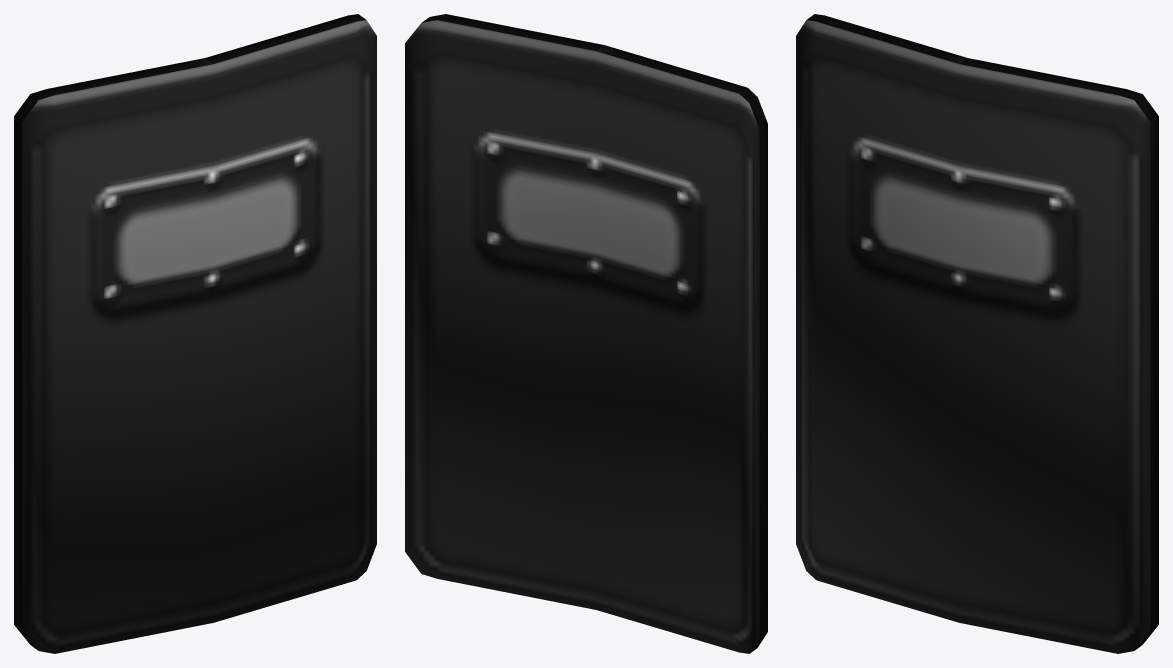
The model's file is khien.FBX.
3 renders of one model, left to right at view 1: azimuth 30°, elevation 25°; view 2: azimuth 150°, elevation 25°; view 3: azimuth 330°, elevation 25°, orthographic.
Visible parts, largest first — view 1: Object112; view 2: Object112; view 3: Object112.
Boxes of the visible parts, x1,y1,x2,y2 form: Object112: [14, 14, 376, 653]; Object112: [405, 14, 767, 653]; Object112: [796, 14, 1158, 653].
Bounding box in the file's own units: 38 × 57.26 × 4.12.
